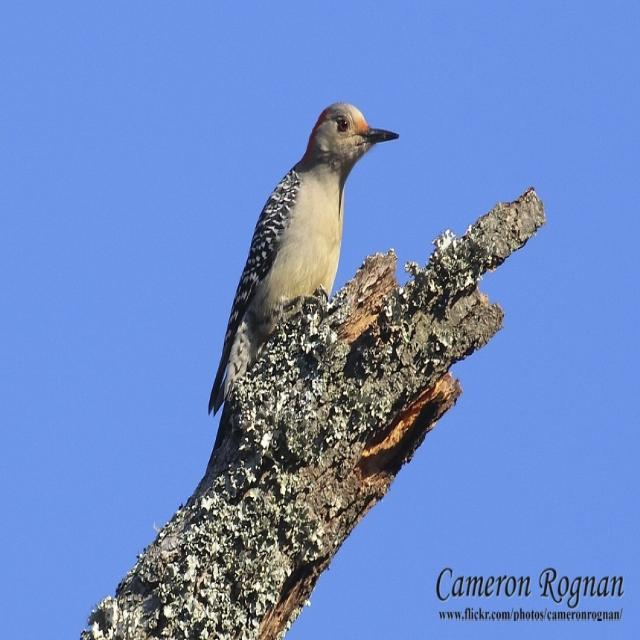bird: (230, 92, 402, 388)
